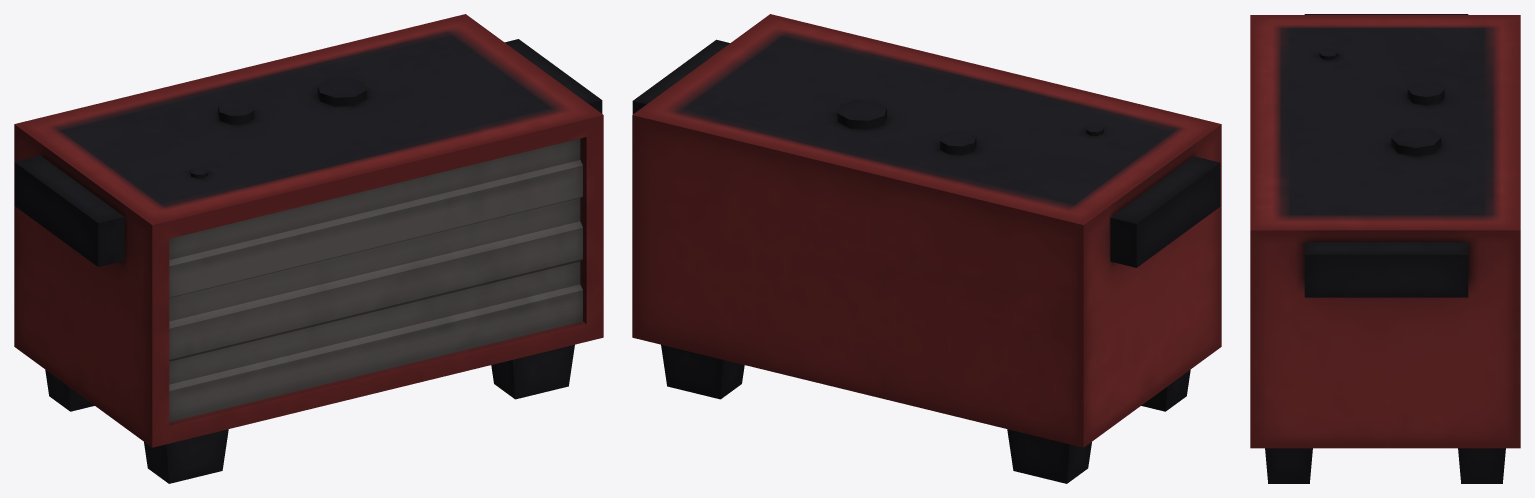
File: Heater.fbx
The picture shows the model from 3 angles, left to right: view 1: azimuth 30°, elevation 25°; view 2: azimuth 150°, elevation 25°; view 3: azimuth 270°, elevation 25°; orthographic projection. The views are drawn at different scales.
Parts seen in each view (by area): view 1: Heater; view 2: Heater; view 3: Heater.
Boxes of the visible parts, x1,y1,x2,y2 form: Heater: [14, 14, 603, 483]; Heater: [632, 14, 1221, 483]; Heater: [1250, 14, 1520, 483].
Bounding box in the file's own units: 58.72 × 31.22 × 27.85.
